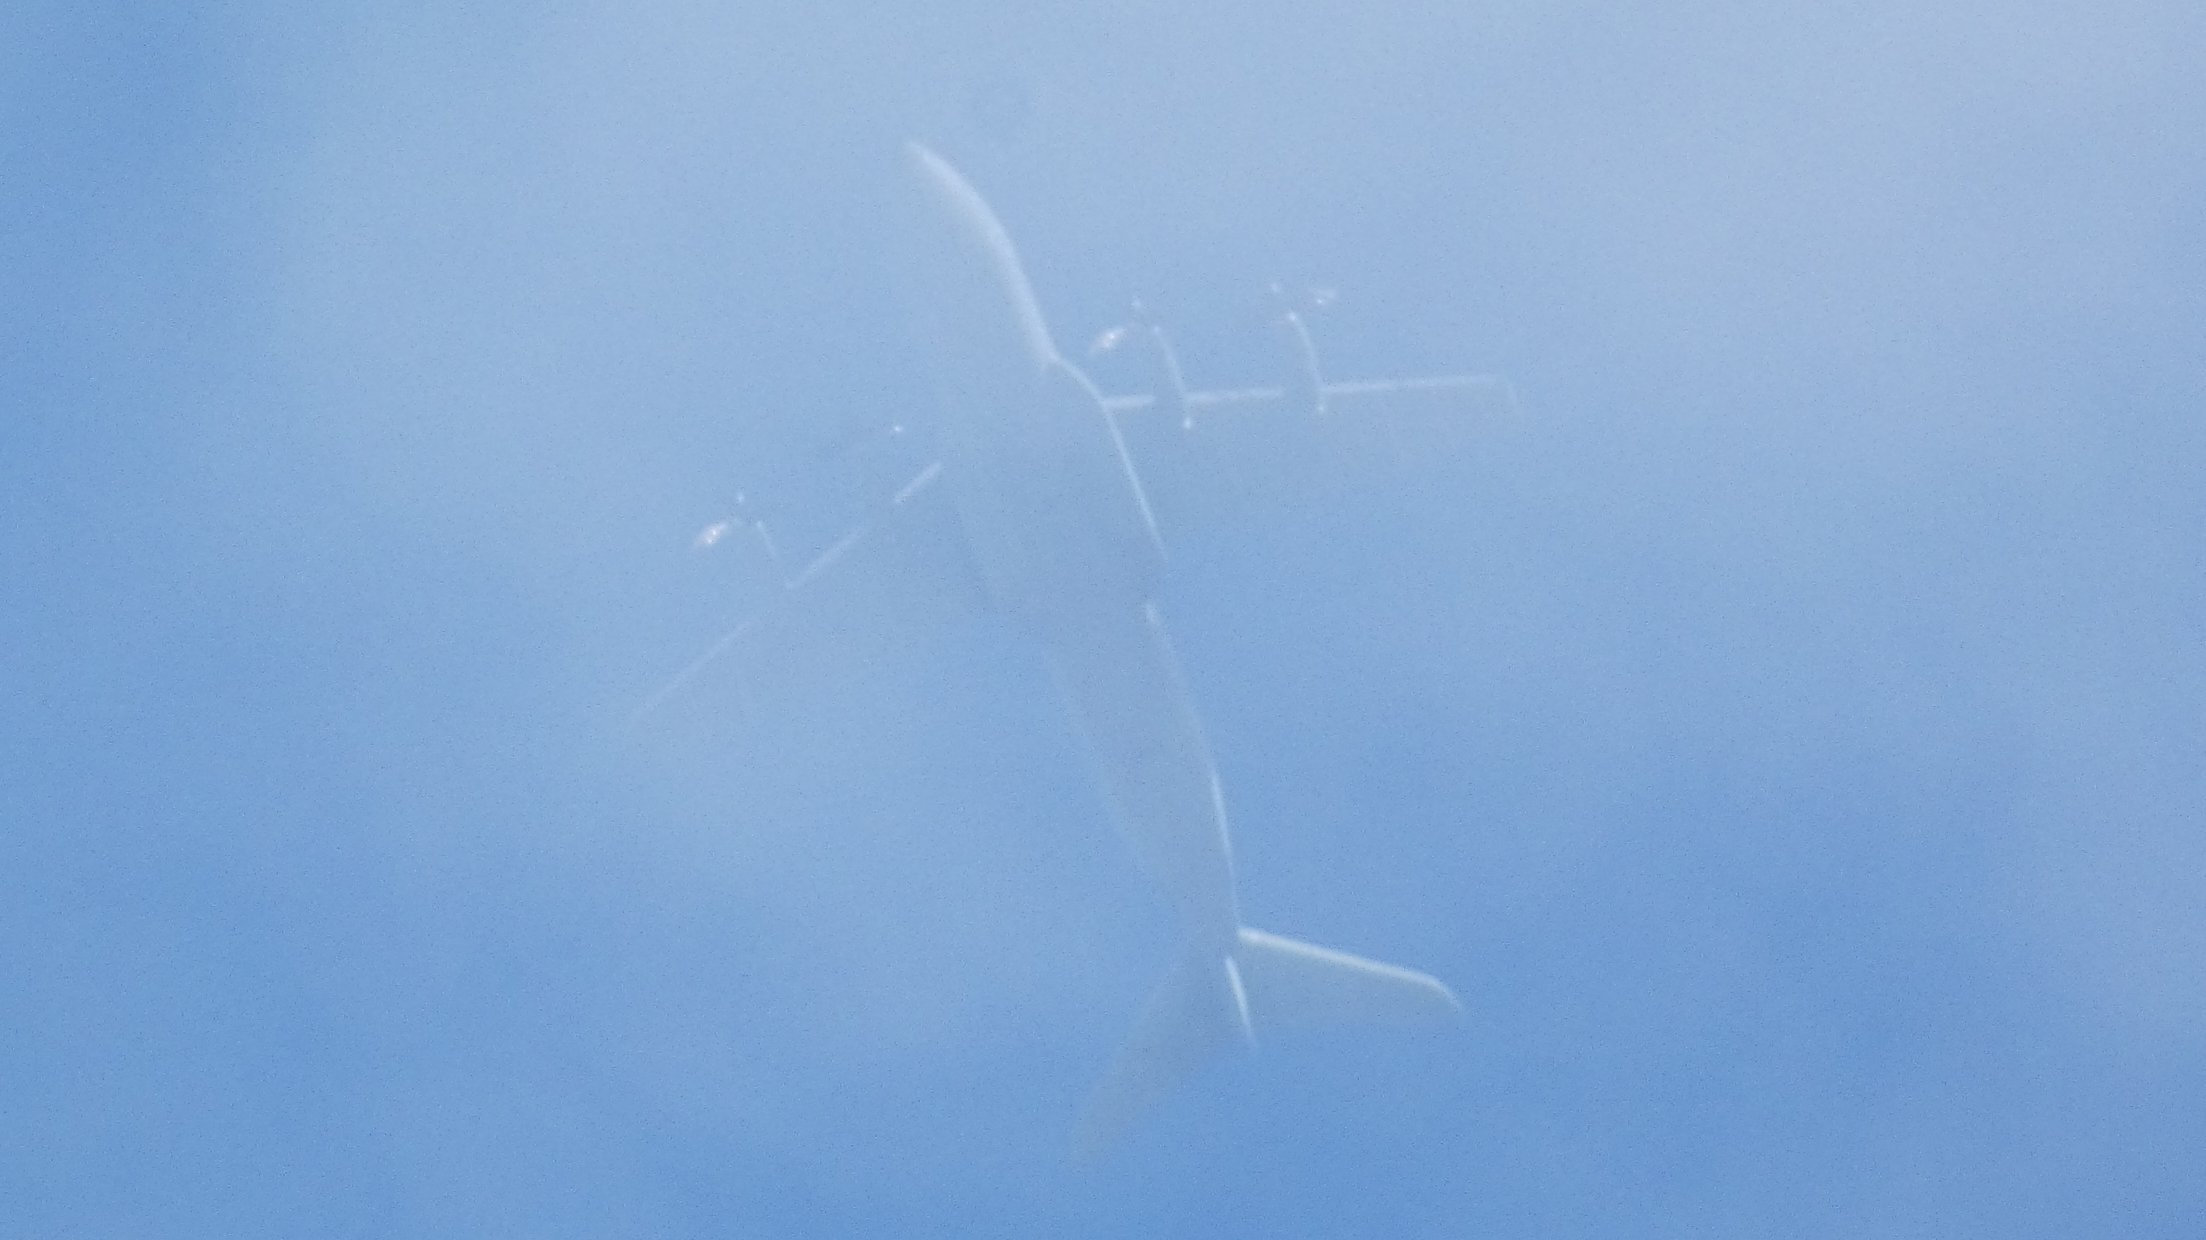airplane: (623, 133, 1530, 1170)
